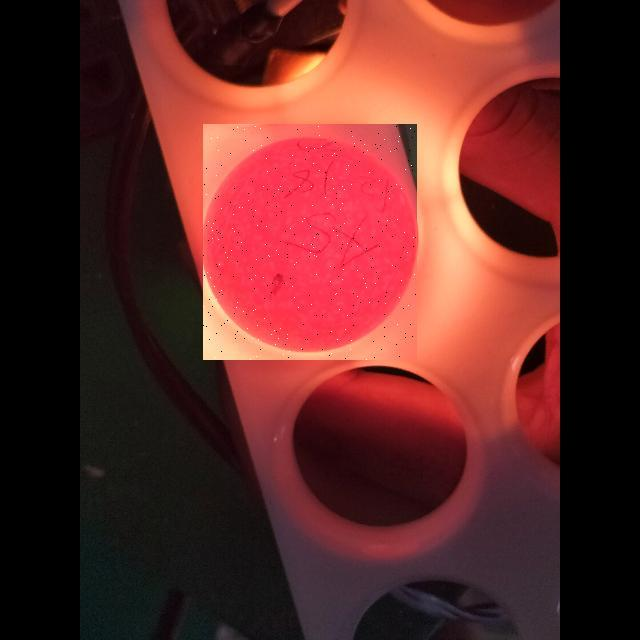Infertile: (203, 124, 417, 360)
